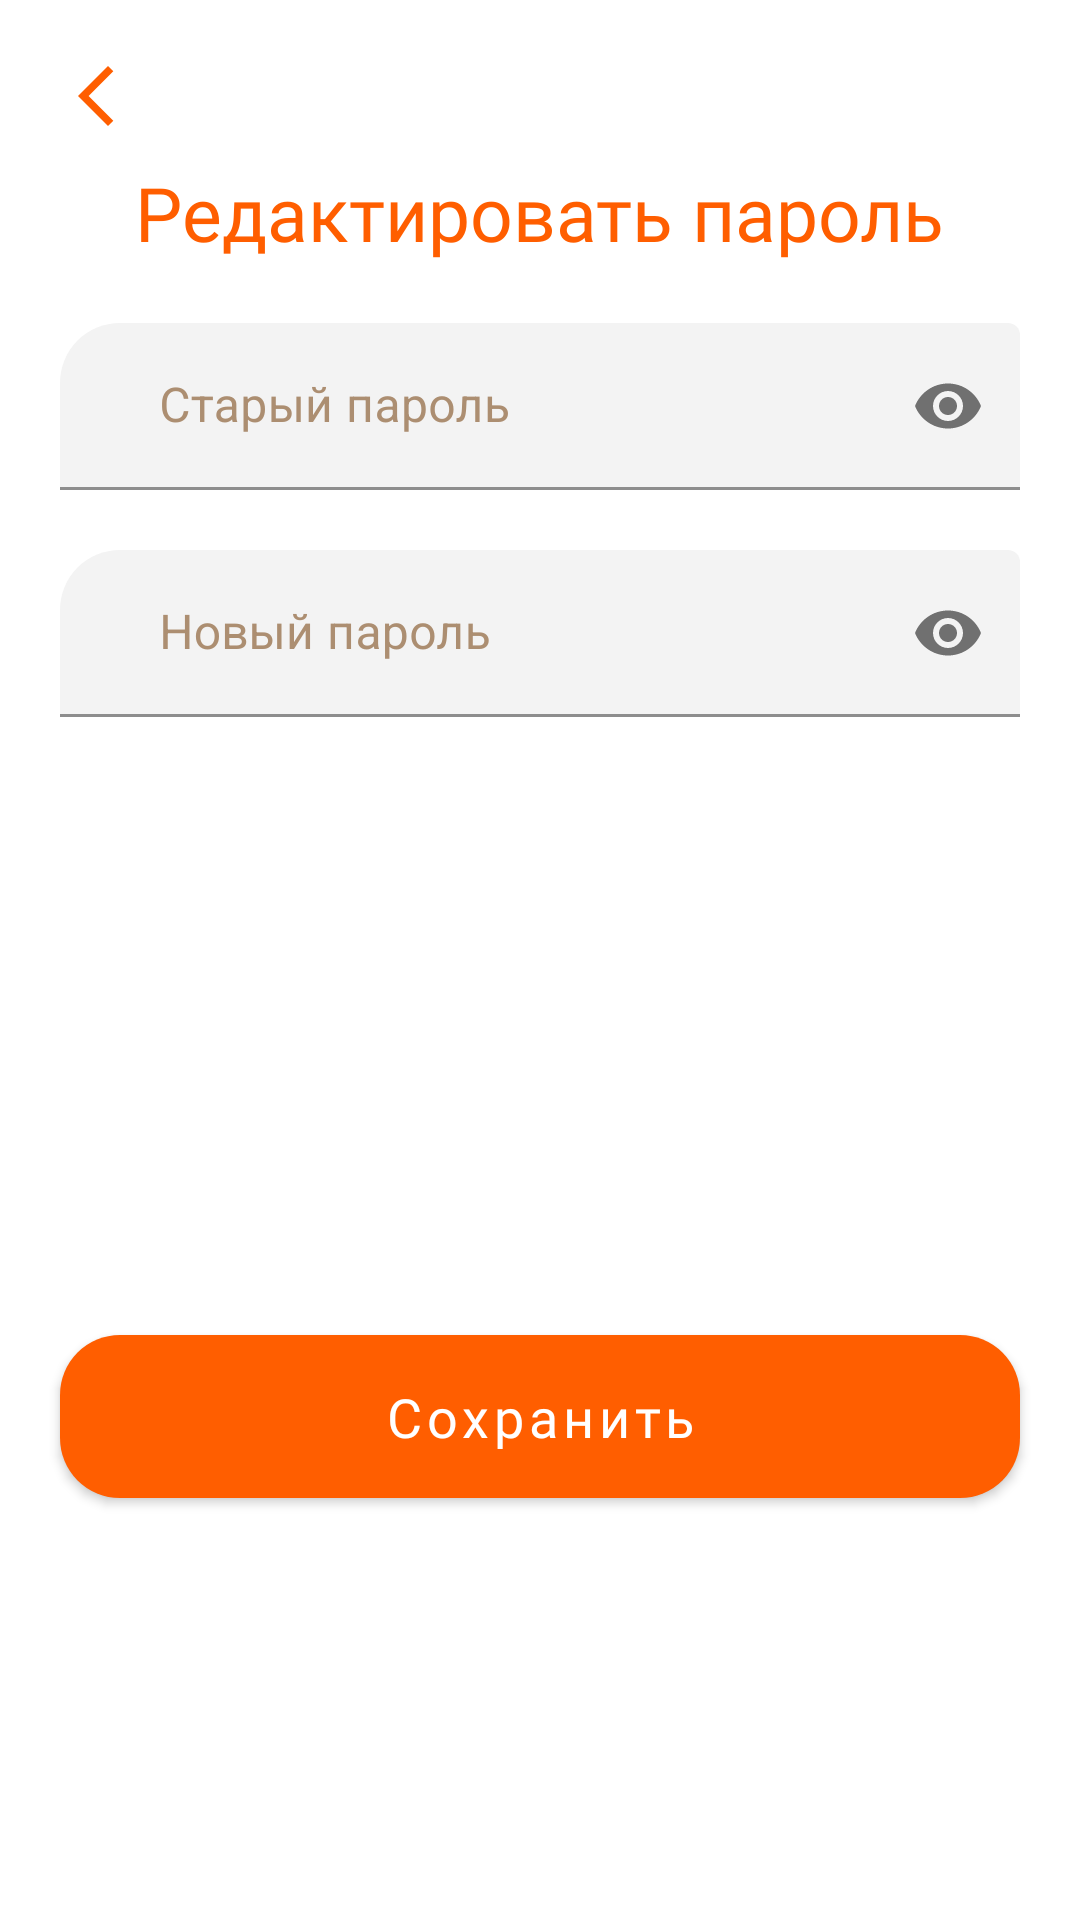

Named icons in this screenshot (1080*1920) and their centers, (x,y):
back: (95,96)
